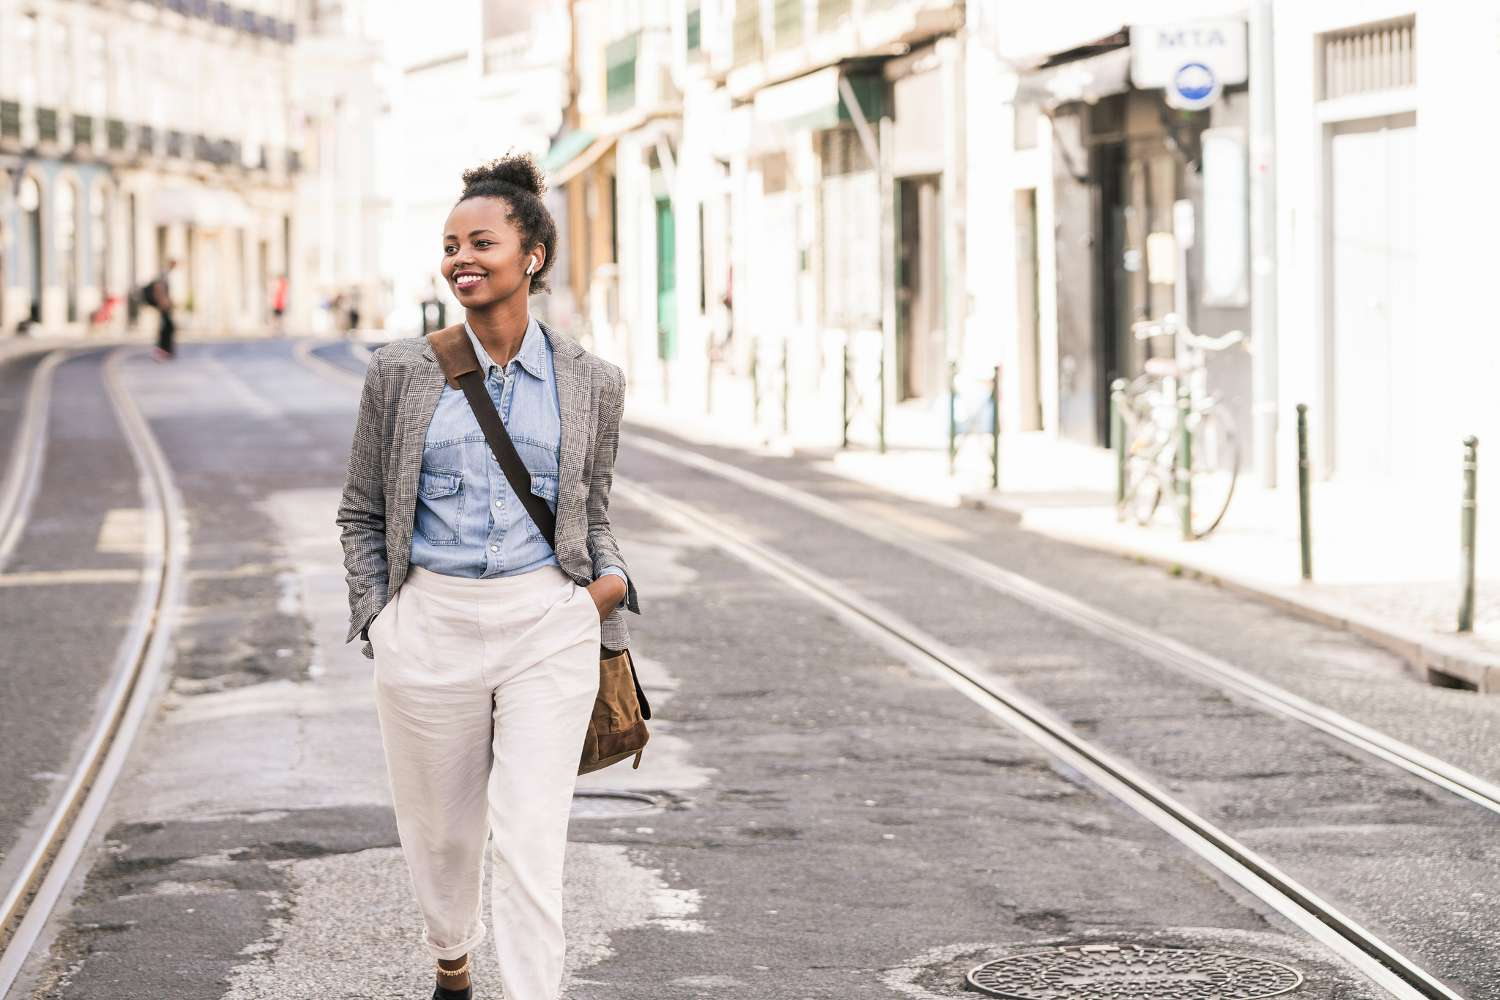person: (330, 155, 667, 1000)
